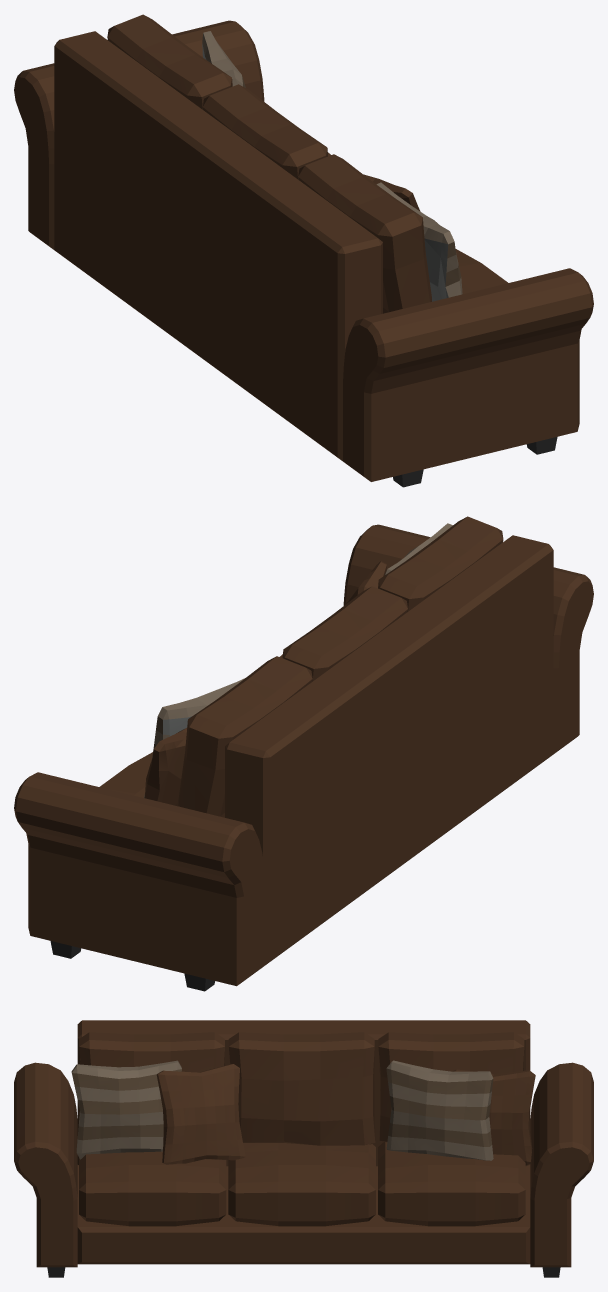
Rendered from SM_sofa_05.glb.
The picture shows the model from 3 angles, top to bottom: view 1: azimuth 30°, elevation 25°; view 2: azimuth 150°, elevation 25°; view 3: azimuth 270°, elevation 25°; orthographic projection. The views are drawn at different scales.
Visible parts, largest first — view 1: SM_sofa_05; view 2: SM_sofa_05; view 3: SM_sofa_05.
Part boxes in pixels (box(x1,y1,x2,y2)): SM_sofa_05: box(14, 14, 593, 487); SM_sofa_05: box(14, 516, 593, 991); SM_sofa_05: box(14, 1020, 593, 1277).
Size of the model in its own units: 1.1 by 1.2 by 3.26.
1 material, 1 textured.
